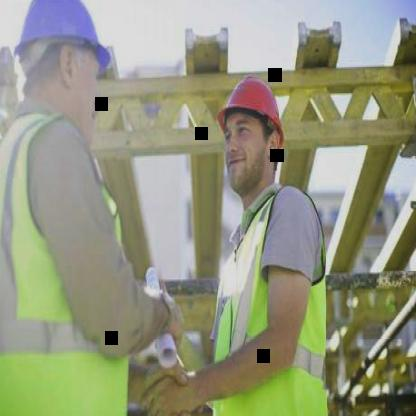helmet: (0, 0, 118, 161), (212, 66, 290, 198)
